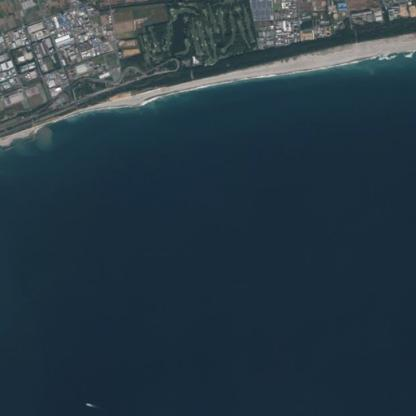ship: (84, 402, 89, 405)
